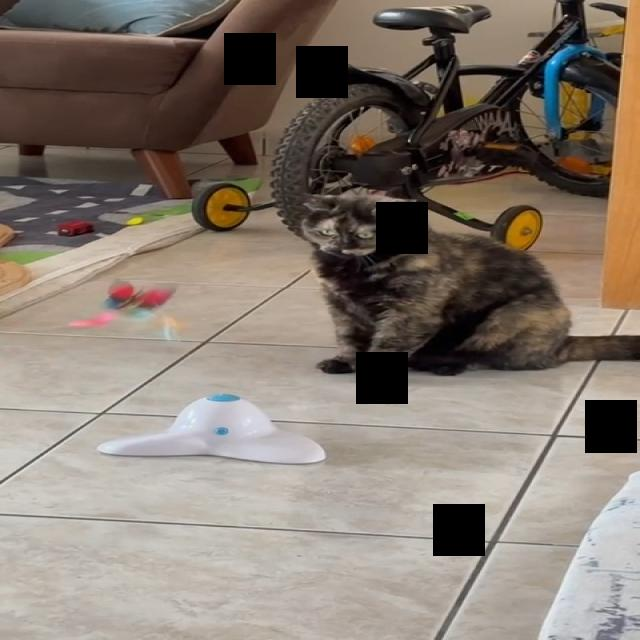authorized: (293, 189, 639, 384)
